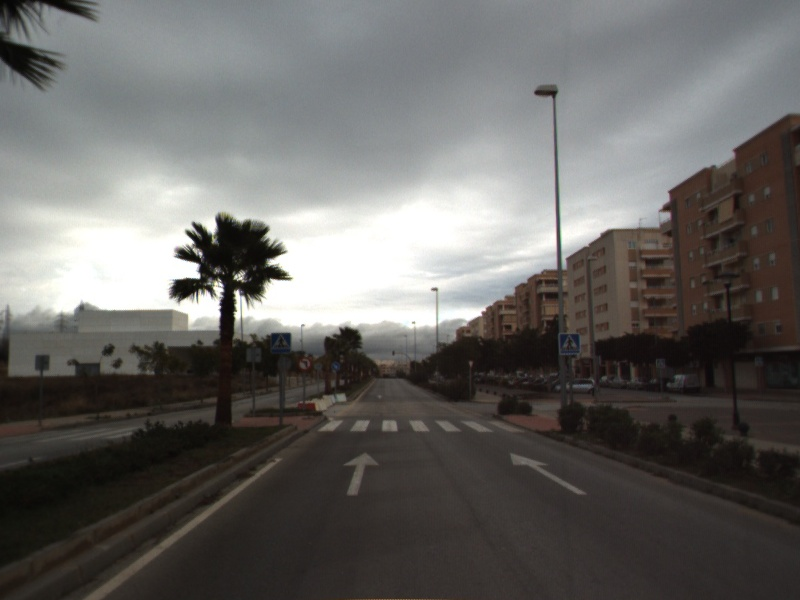STRAIGHT: (508, 451, 589, 497), (341, 450, 381, 497)
